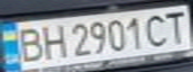0: (106, 16, 130, 52)
1: (124, 13, 148, 51)
2: (66, 19, 93, 57)
9: (87, 18, 112, 55)
B: (12, 25, 48, 63)
C: (142, 10, 172, 47)
H: (36, 21, 69, 61)
T: (160, 7, 190, 44)
